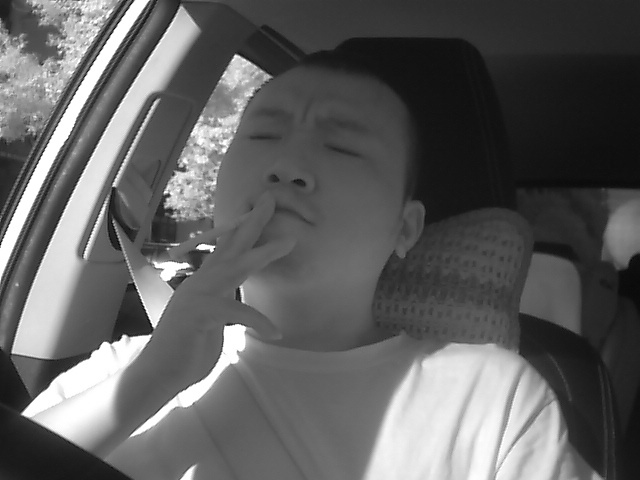hand: (162, 200, 288, 375)
